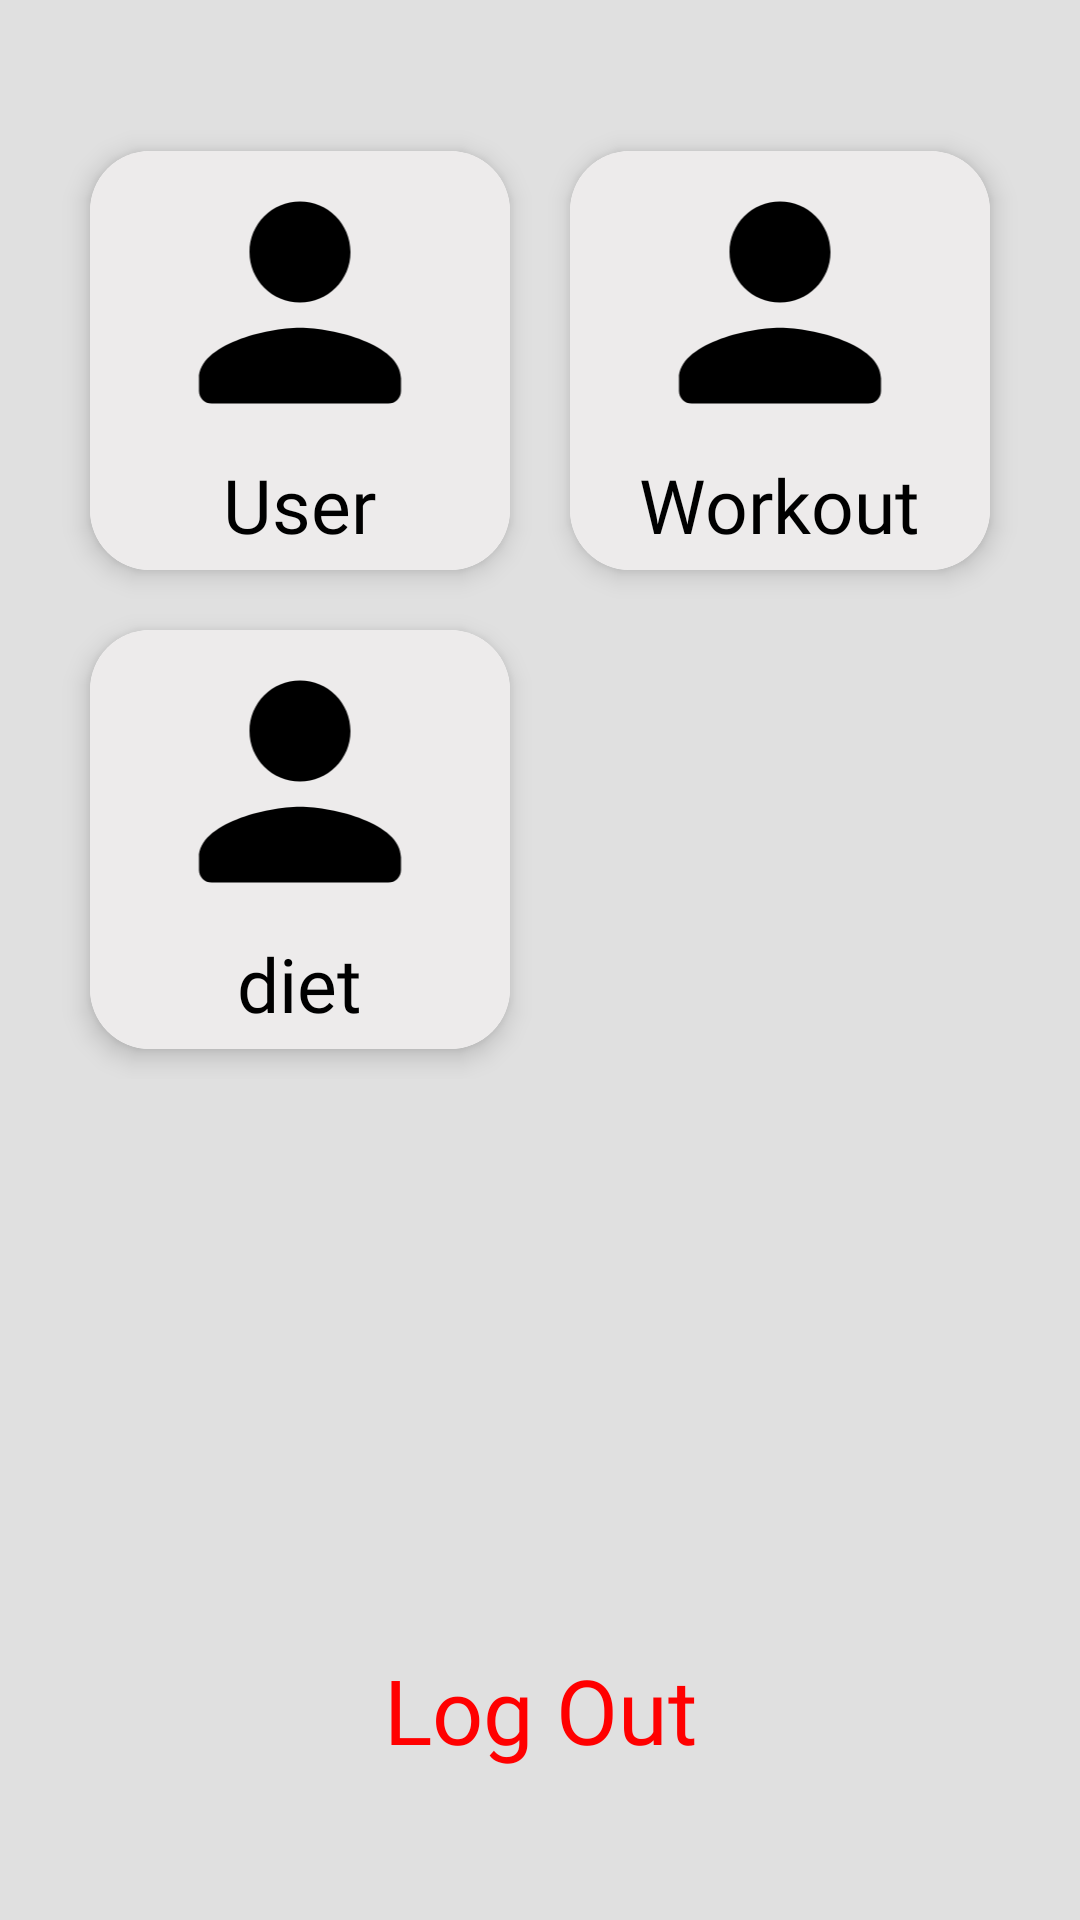

Icon click points for this 1080px x 1920px phone screenshot, format [x,y]:
person: [300,302], [780,302], [300,781]
